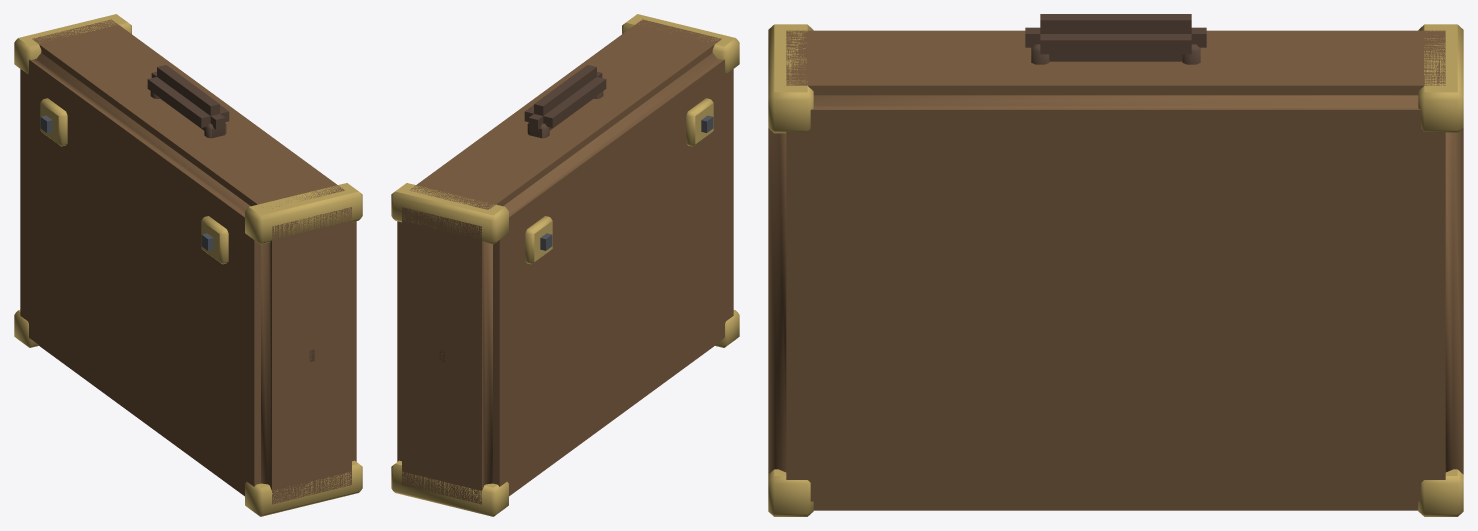
Rendered from item_briefcase_hand.glb.
3 views of the same model, side by side, from view 1: azimuth 30°, elevation 25°; view 2: azimuth 150°, elevation 25°; view 3: azimuth 270°, elevation 25° (orthographic). The views are drawn at different scales.
Parts seen in each view (by area): view 1: briefcase; view 2: briefcase; view 3: briefcase.
Part boxes in pixels (x1,y1,x2,y2): briefcase: [14, 14, 362, 516]; briefcase: [391, 14, 739, 516]; briefcase: [768, 14, 1463, 516].
Size of the model in its own units: 0.126 by 0.34 by 0.46.
